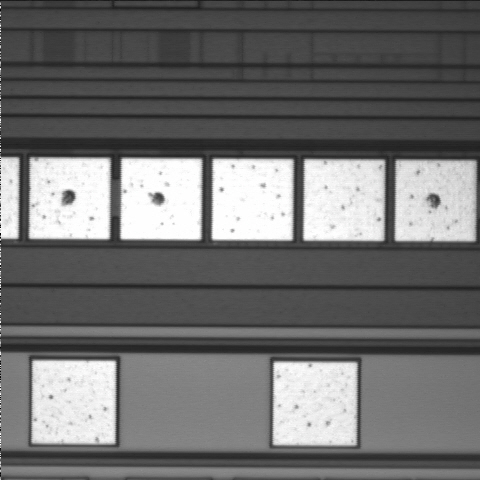pad: (32, 360, 116, 444), (273, 362, 357, 445), (303, 159, 385, 241), (121, 158, 202, 240), (212, 159, 293, 241), (29, 158, 110, 239), (395, 161, 476, 241)
